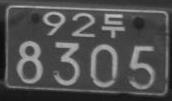0: (89, 43, 118, 88)
2: (71, 12, 95, 38)
3: (52, 41, 81, 86)
5: (127, 45, 156, 90)
8: (16, 39, 44, 84)
9: (42, 10, 66, 35)
두: (101, 12, 125, 38)
